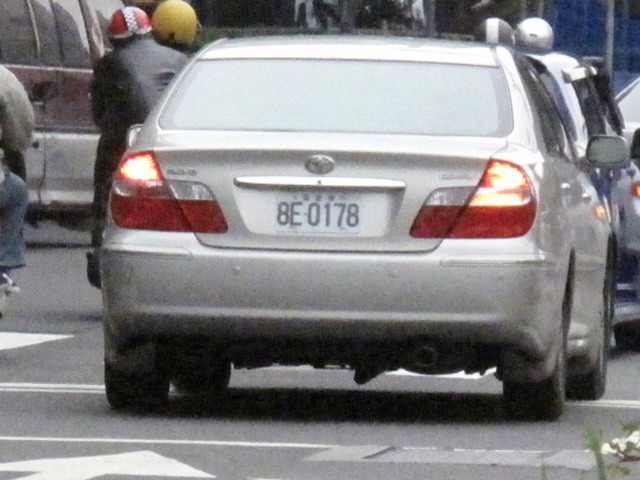plate: (275, 189, 362, 239)
